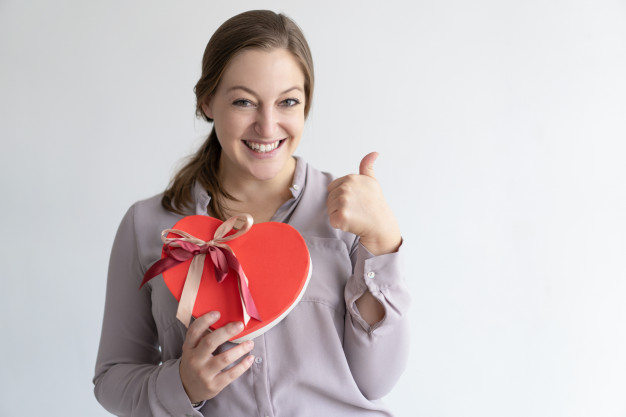thumbsup: (325, 151, 380, 230)
